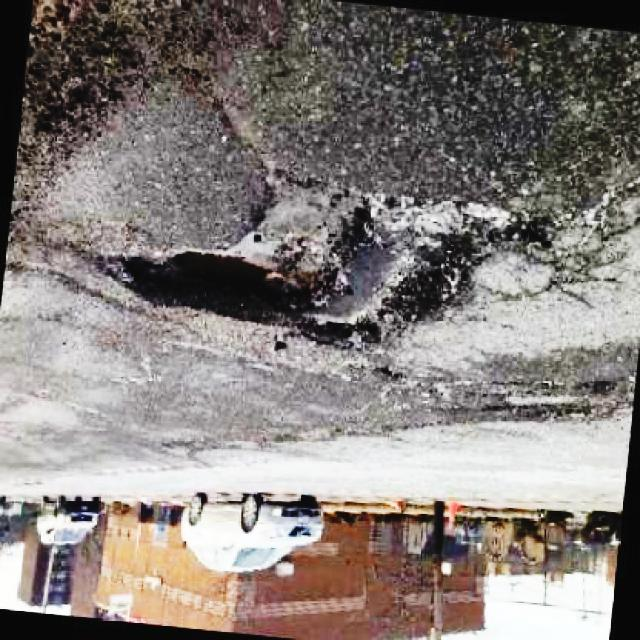pothole: (108, 171, 580, 352)
